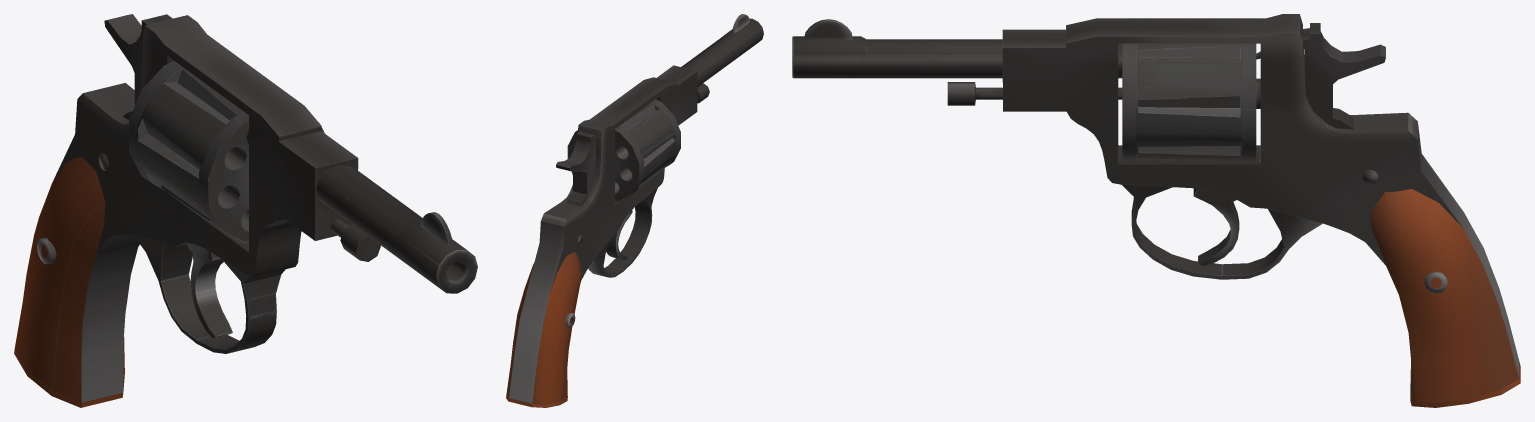
The model's file is Revolver_LP1.fbx.
3 views of the same model, side by side, from view 1: azimuth 30°, elevation 25°; view 2: azimuth 150°, elevation 25°; view 3: azimuth 270°, elevation 25° (orthographic). The views are drawn at different scales.
Visible parts, largest first — view 1: Receiver, Magazine_1, Grips, Barrel, Trigger_guard, Trigger, Hammer, Extractor, Front_sight; view 2: Receiver, Grips, Magazine_1, Barrel, Trigger_guard, Hammer, Trigger; view 3: Receiver, Grips, Magazine_1, Barrel, Trigger_guard, Hammer, Trigger, Extractor, Front_sight.
Boxes of the visible parts, box(x1,y1,x2,y2) form: Receiver: box(53, 15, 358, 402); Magazine_1: box(129, 61, 324, 243); Grips: box(14, 157, 124, 407); Barrel: box(246, 129, 477, 293); Trigger_guard: box(134, 235, 285, 353); Trigger: box(185, 243, 232, 337); Hammer: box(104, 14, 172, 119); Extractor: box(330, 219, 380, 261); Front_sight: box(421, 212, 452, 246); Receiver: box(509, 65, 697, 403); Grips: box(506, 252, 581, 407); Magazine_1: box(567, 99, 680, 201); Barrel: box(681, 18, 763, 86); Trigger_guard: box(588, 188, 657, 277); Hammer: box(556, 131, 596, 206); Trigger: box(606, 210, 632, 259); Receiver: box(1002, 14, 1519, 400); Grips: box(1370, 189, 1520, 407); Magazine_1: box(1122, 43, 1256, 161); Barrel: box(792, 36, 1122, 78); Trigger_guard: box(1122, 184, 1322, 279); Hammer: box(1256, 23, 1385, 129); Trigger: box(1193, 188, 1239, 266); Extractor: box(947, 78, 1260, 108); Front_sight: box(804, 19, 852, 40).
Bounding box in the file's own units: 14.97 × 48.32 × 84.41.
1 material, 1 textured.
